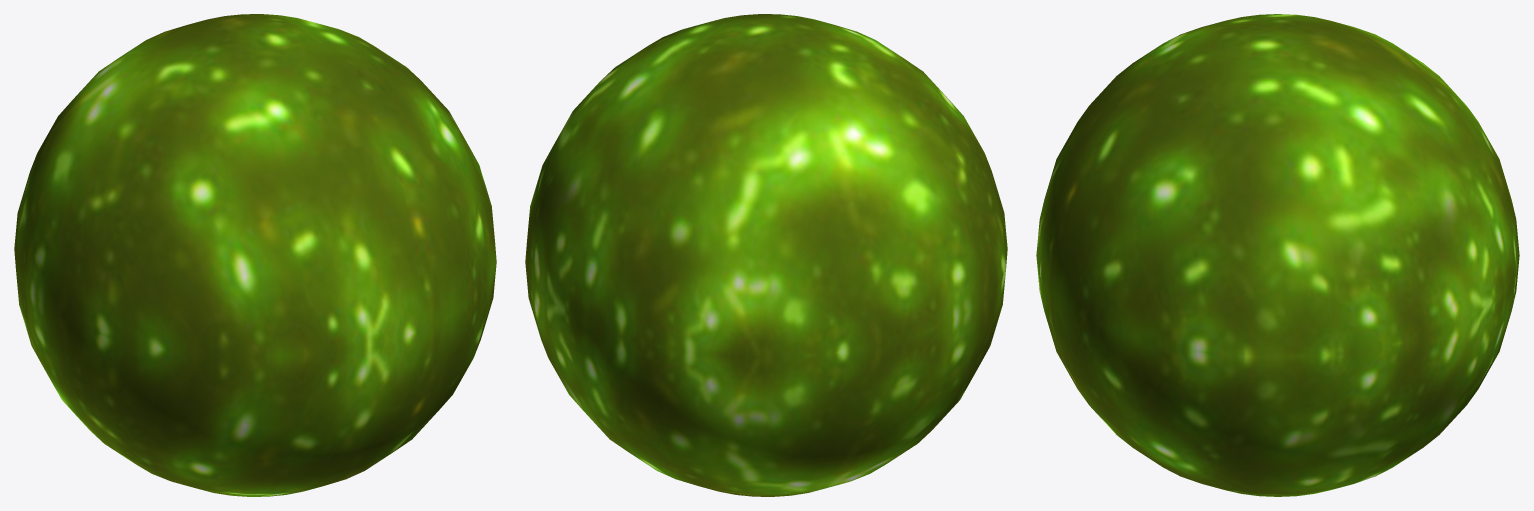
Rendered from Toxic_planet_1.FBX.
3 renders of one model, left to right at view 1: azimuth 30°, elevation 25°; view 2: azimuth 150°, elevation 25°; view 3: azimuth 270°, elevation 25°, orthographic.
Visible parts, largest first — view 1: Toxic_planet_1; view 2: Toxic_planet_1; view 3: Toxic_planet_1.
Boxes of the visible parts, x1,y1,x2,y2 form: Toxic_planet_1: (14, 14, 496, 496); Toxic_planet_1: (525, 14, 1007, 496); Toxic_planet_1: (1036, 14, 1519, 496).
Bounding box in the file's own units: 69.73 × 69.73 × 69.73.
